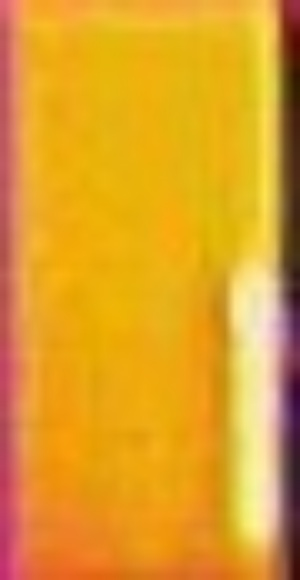Diode: (219, 254, 292, 553)
